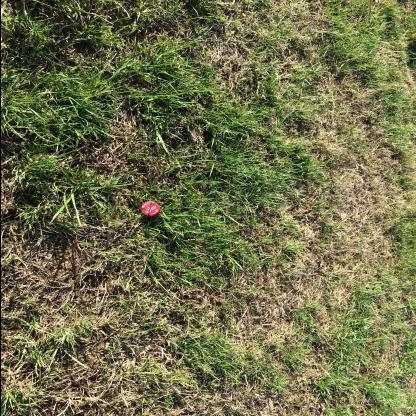metal: (140, 203, 160, 218)
